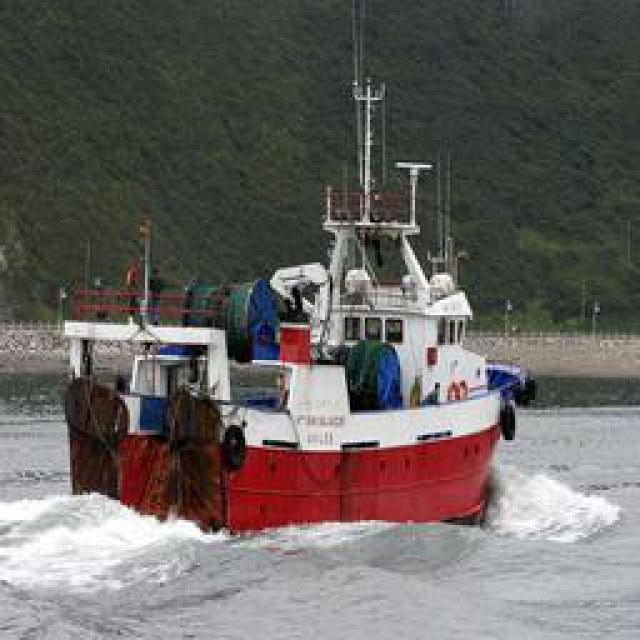Ship: (61, 91, 516, 544)
